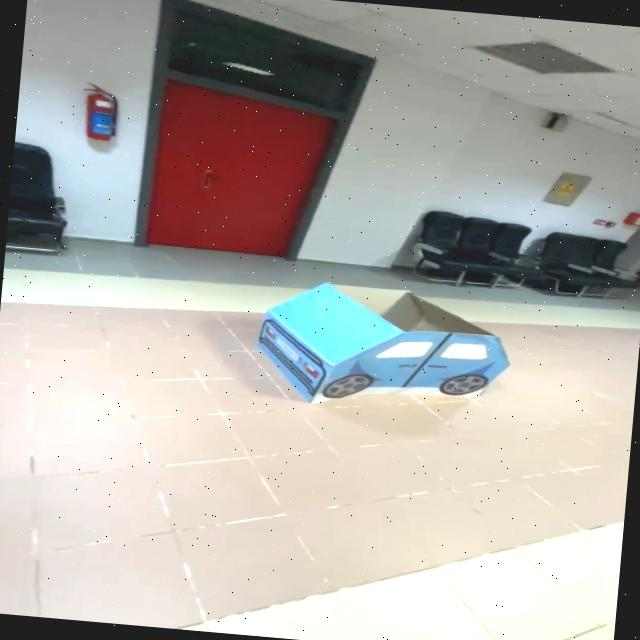blue_car: (220, 254, 554, 439)
